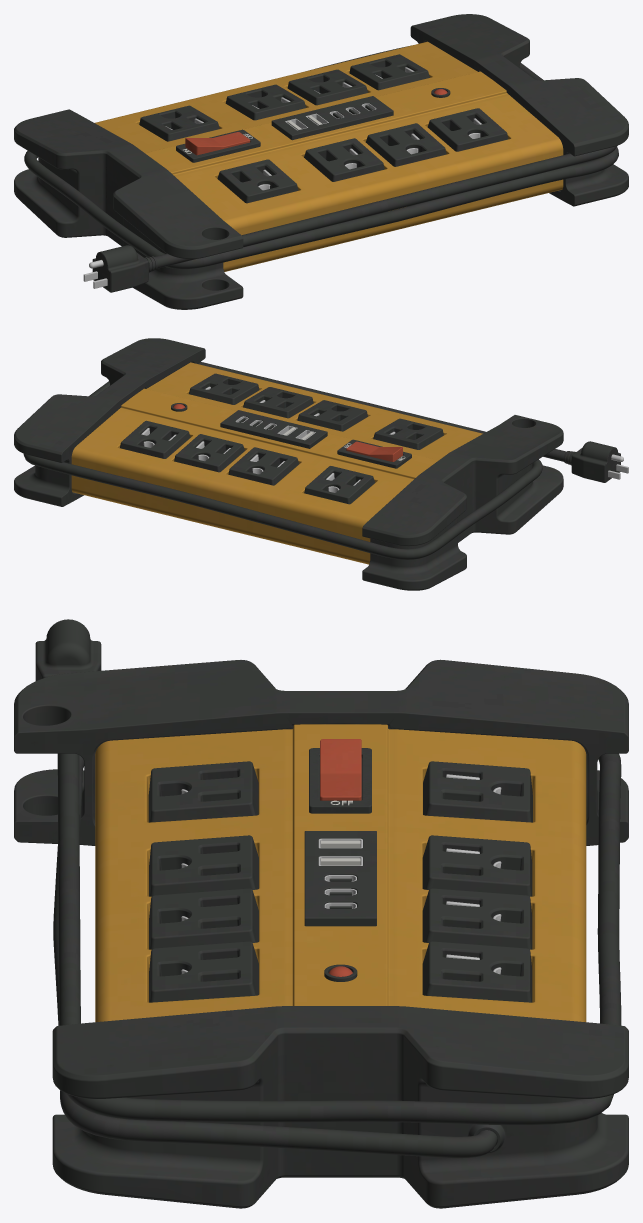
Rendered from equipment_powerStrip_portable_c01.glb.
3 renders of one model, top to bottom at view 1: azimuth 30°, elevation 25°; view 2: azimuth 150°, elevation 25°; view 3: azimuth 270°, elevation 25°, orthographic. The views are drawn at different scales.
Visible parts, largest first — view 1: outlet_01_mesh_00, button_01_mesh_00; view 2: outlet_01_mesh_00, button_01_mesh_00; view 3: outlet_01_mesh_00, button_01_mesh_00.
Part boxes in pixels (bbox=[...]): outlet_01_mesh_00: bbox=[14, 14, 628, 309]; button_01_mesh_00: bbox=[185, 132, 250, 155]; outlet_01_mesh_00: bbox=[14, 338, 628, 590]; button_01_mesh_00: bbox=[346, 441, 402, 461]; outlet_01_mesh_00: bbox=[14, 619, 628, 1208]; button_01_mesh_00: bbox=[320, 739, 361, 800].
Size of the model in its own units: 0.3094 by 0.0488 by 0.1713.
6 materials, 6 textured.
